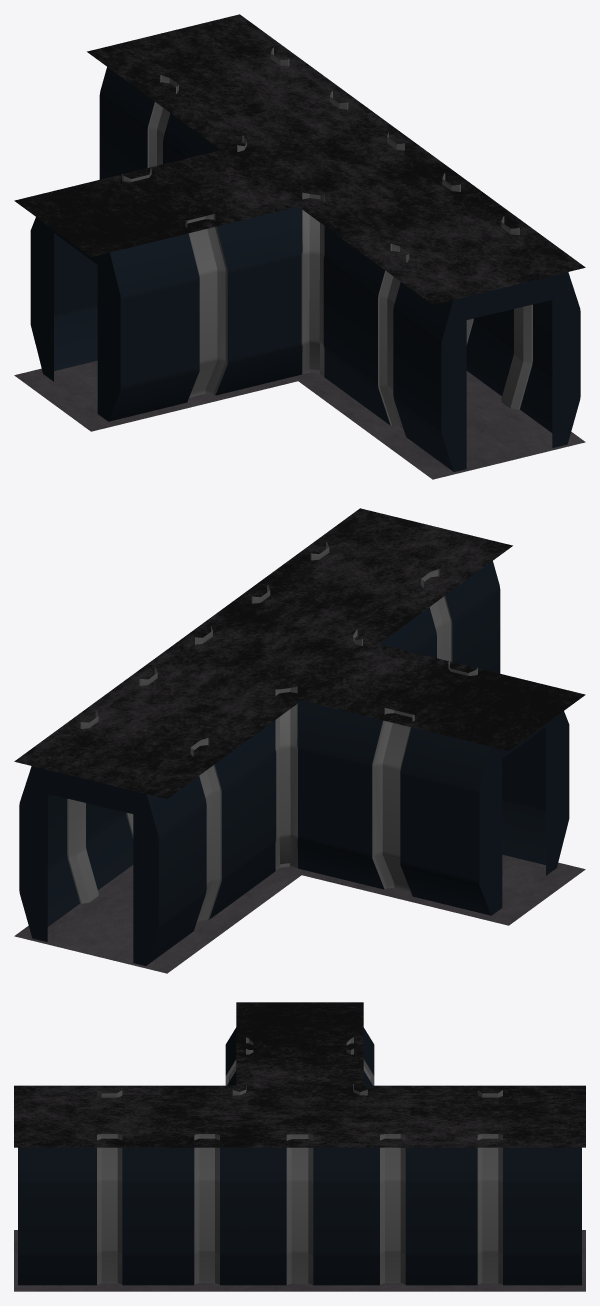
Rendered from RS_corridor.fbx.
3 views of the same model, one above another, from view 1: azimuth 30°, elevation 25°; view 2: azimuth 150°, elevation 25°; view 3: azimuth 270°, elevation 25° (orthographic). The views are drawn at different scales.
Visible parts, largest first — view 1: RS_wall_A; view 2: RS_wall_A; view 3: RS_wall_A.
Part boxes in pixels (x1=…): RS_wall_A: x1=14, y1=14, x2=585, y2=479; RS_wall_A: x1=14, y1=508, x2=585, y2=973; RS_wall_A: x1=14, y1=1002, x2=585, y2=1291.
Bounding box in the file's own units: 540 × 267 × 899.
